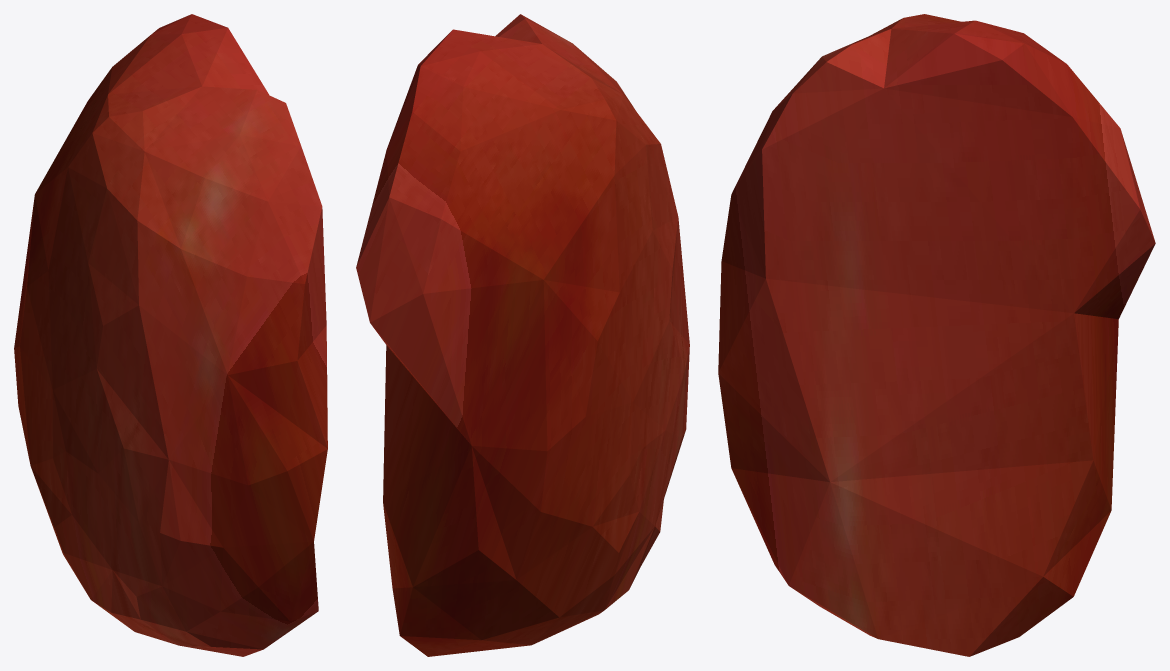
3 views of the same model, side by side, from view 1: azimuth 30°, elevation 25°; view 2: azimuth 150°, elevation 25°; view 3: azimuth 270°, elevation 25° (orthographic). The views are drawn at different scales.
Visible parts, largest first — view 1: Renderer Node; view 2: Renderer Node; view 3: Renderer Node.
Part boxes in pixels (bbox=[...]): Renderer Node: bbox=[14, 14, 327, 656]; Renderer Node: bbox=[356, 14, 689, 656]; Renderer Node: bbox=[718, 14, 1155, 656].
Size of the model in its own units: 0.1303 by 0.3849 by 0.2447.
Materials: 1 (1 with a texture image).
